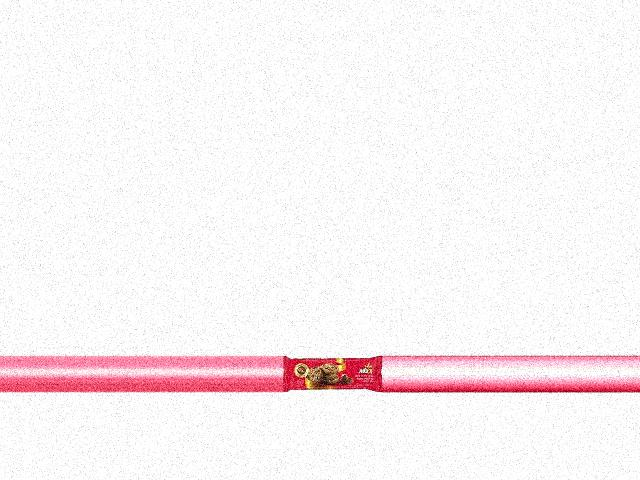chocolate: (285, 357, 383, 395)
